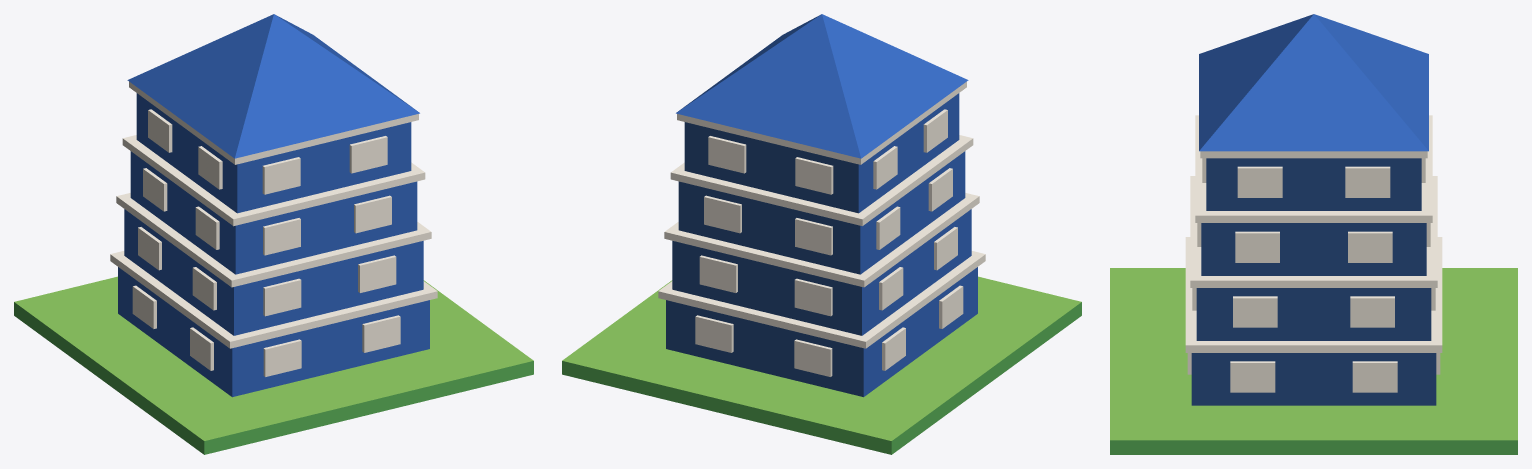
File: skill_multiply_tower_t2.glb
3 renders of one model, left to right at view 1: azimuth 30°, elevation 25°; view 2: azimuth 150°, elevation 25°; view 3: azimuth 270°, elevation 25°, orthographic. The views are drawn at different scales.
Parts seen in each view (by area): view 1: base, roof, floor_1, floor_2, floor_3, floor_4; view 2: base, roof, floor_1, floor_2, floor_3, floor_4; view 3: base, roof, floor_1, floor_2, floor_3, floor_4.
Boxes of the visible parts, x1=… form: base: x1=14, y1=276, x2=533, y2=454; roof: x1=127, y1=14, x2=419, y2=158; floor_1: x1=110, y1=251, x2=437, y2=397; floor_2: x1=116, y1=193, x2=431, y2=335; floor_3: x1=122, y1=135, x2=425, y2=274; floor_4: x1=129, y1=81, x2=418, y2=213; base: x1=562, y1=276, x2=1081, y2=454; roof: x1=676, y1=14, x2=968, y2=158; floor_1: x1=658, y1=251, x2=985, y2=397; floor_2: x1=664, y1=193, x2=979, y2=335; floor_3: x1=670, y1=135, x2=973, y2=274; floor_4: x1=677, y1=81, x2=966, y2=213; base: x1=1110, y1=268, x2=1517, y2=454; roof: x1=1199, y1=14, x2=1428, y2=151; floor_1: x1=1185, y1=237, x2=1442, y2=405; floor_2: x1=1190, y1=176, x2=1437, y2=340; floor_3: x1=1195, y1=115, x2=1432, y2=275; floor_4: x1=1200, y1=151, x2=1427, y2=210.
Size of the model in its own units: 1 by 0.96 by 1.
